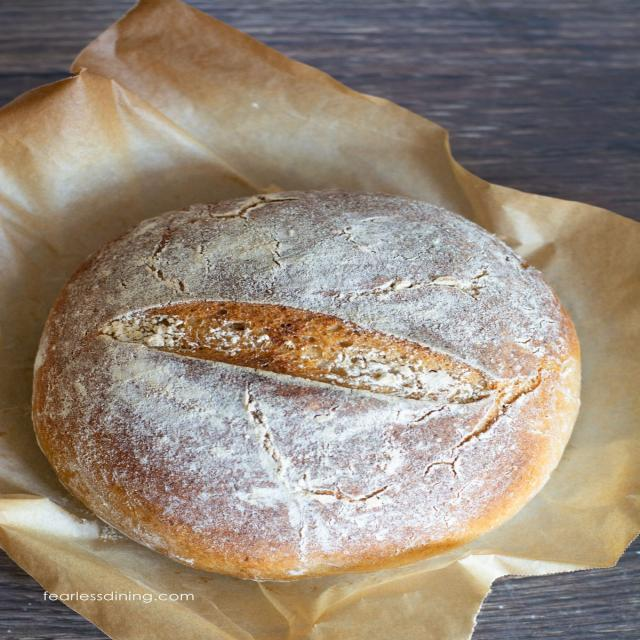Maltese-Bread: (33, 193, 579, 580)
